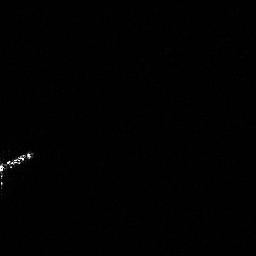ship: (1, 152, 31, 173)
